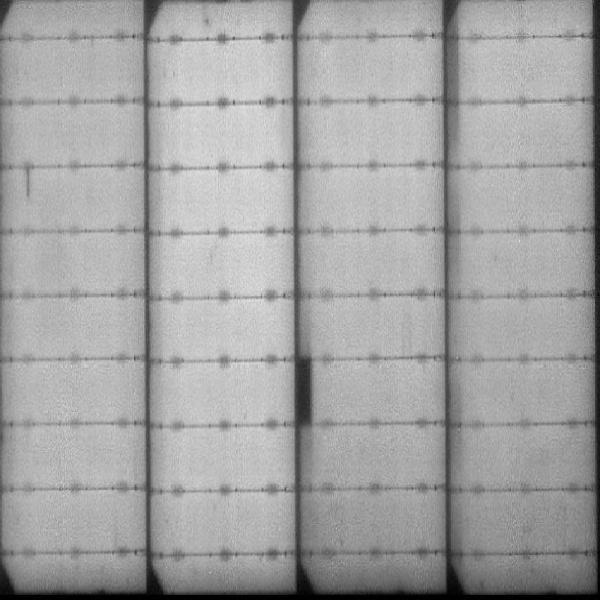black_border: (294, 353, 314, 428)
scratch: (24, 163, 36, 204)
